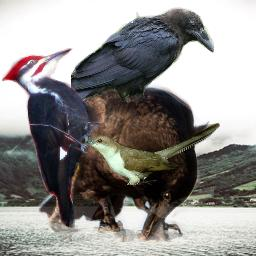Crow: (36, 83, 214, 242), (71, 7, 215, 107)
Cuckoo: (82, 122, 220, 185)
Woodpecker: (2, 48, 102, 228)
